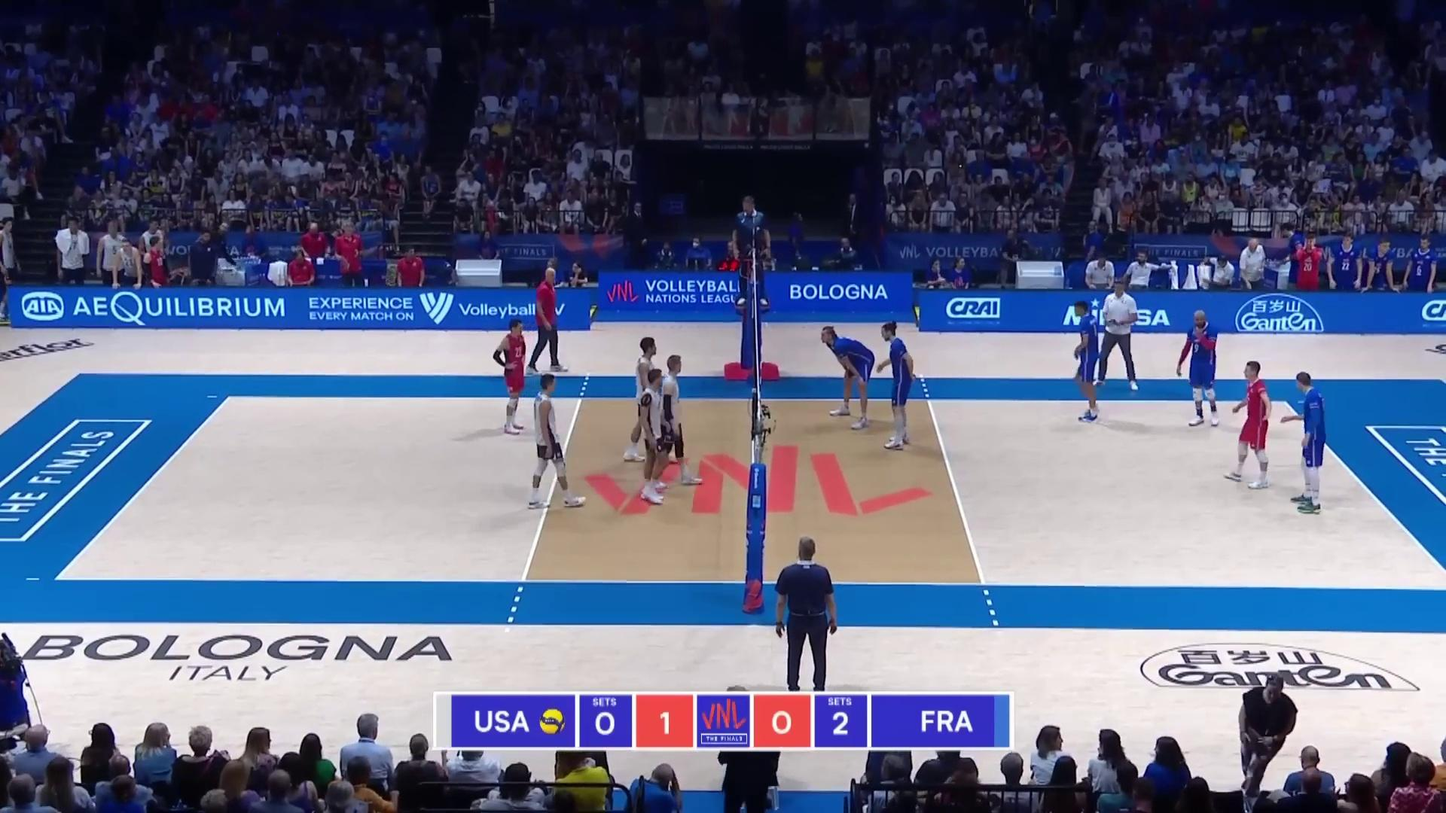player: (529, 375, 584, 508), (651, 355, 702, 489), (1223, 361, 1275, 490), (1284, 372, 1329, 515), (818, 326, 876, 431), (624, 337, 671, 464), (1176, 311, 1222, 427), (875, 323, 917, 448), (493, 320, 532, 437), (1069, 301, 1105, 423), (639, 370, 670, 503)
refree: (775, 537, 838, 694), (730, 199, 769, 310)
